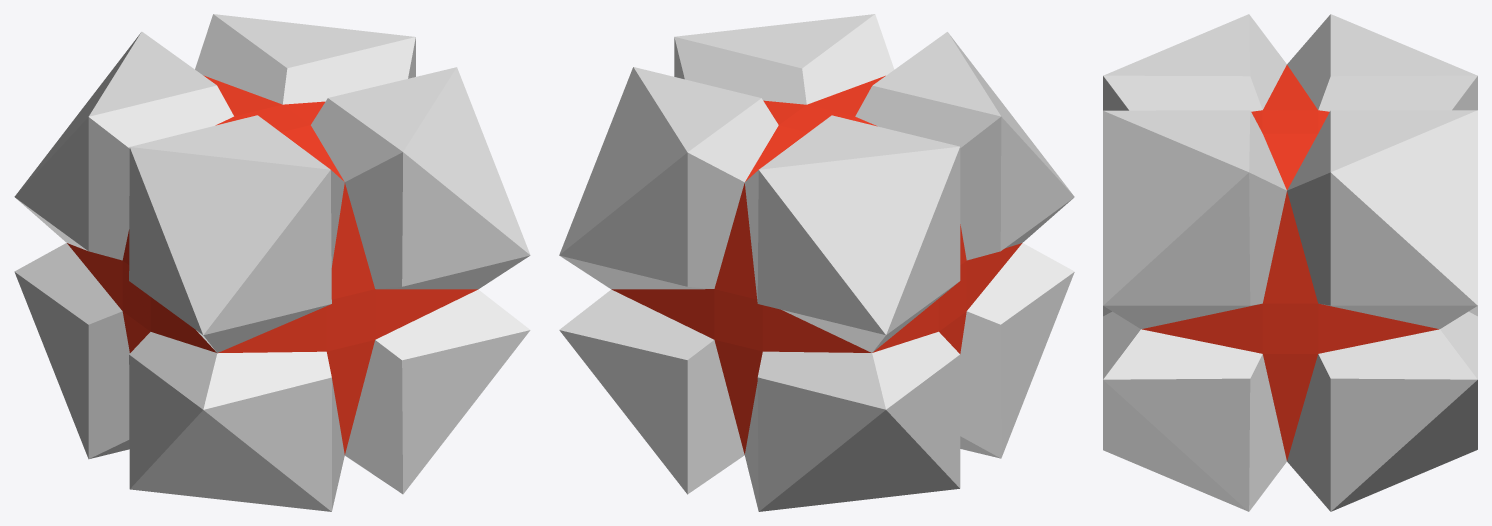
File: Drop1.fbx
The picture shows the model from 3 angles, left to right: view 1: azimuth 30°, elevation 25°; view 2: azimuth 150°, elevation 25°; view 3: azimuth 270°, elevation 25°; orthographic projection.
Parts seen in each view (by area): view 1: Drop Common; view 2: Drop Common; view 3: Drop Common.
Part boxes in pixels (box(x1,y1,x2,y2)): Drop Common: box(14, 14, 530, 511); Drop Common: box(559, 14, 1074, 511); Drop Common: box(1103, 14, 1477, 511).
Size of the model in its own units: 176 by 176 by 176.
1 material, 1 textured.
